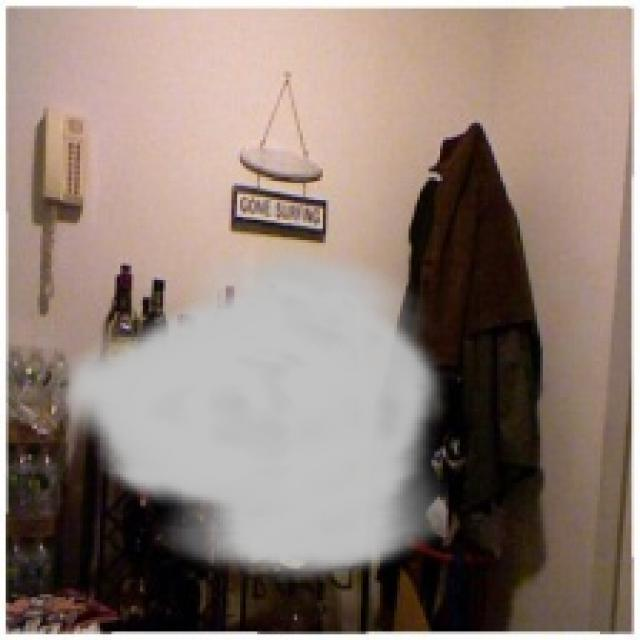Smoke: (51, 240, 448, 583)
